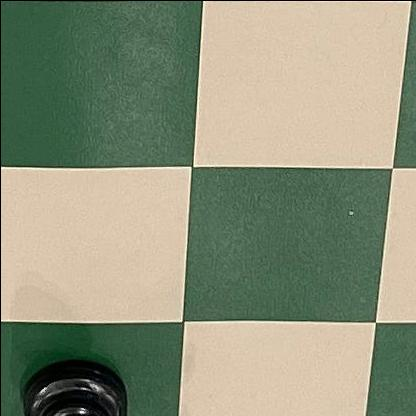black-bishop: (20, 359, 132, 416)
